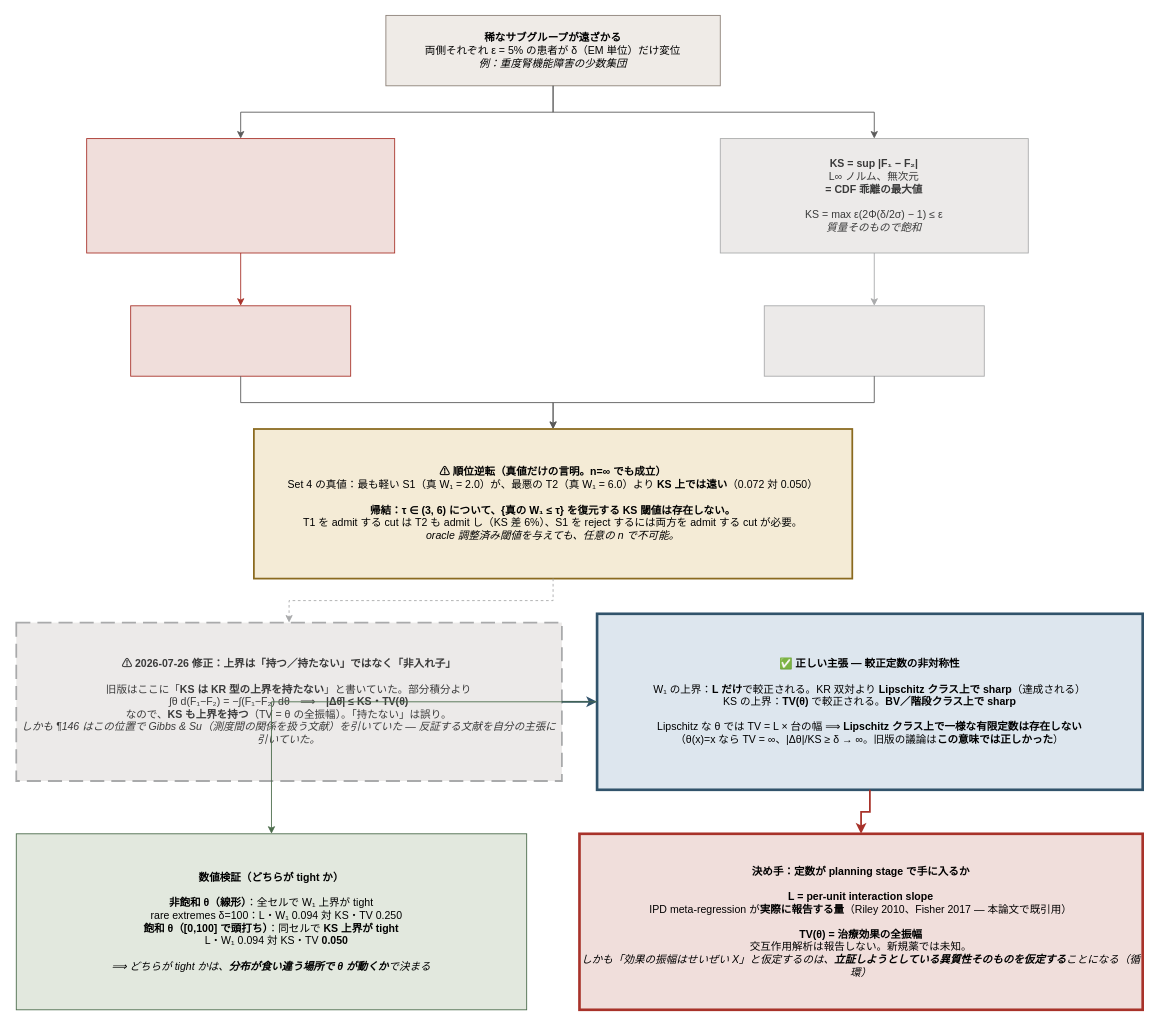
Image size: 1159x1026. Some labels were removed from this diagram. Each missing label, with the centre of its shape:
W₁ = ∫ |F₁ − F₂| dt L¹ ノルム、EM の単位を持つ = 質量 × 移動距離 W₁ = ε_L・δ_L + ε_H・δ_H 線形・非有界: the point at 240,195
δ：30 → 60 KS：0.047 → 0.050 ×1.065 — 天井 ε = 0.05 に釘付け: the point at 873,340
δ：30 → 60 W₁：3.00 → 6.00 ×2.00: the point at 240,340
